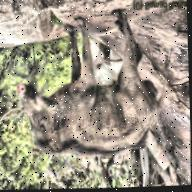boar: (14, 10, 174, 178)
